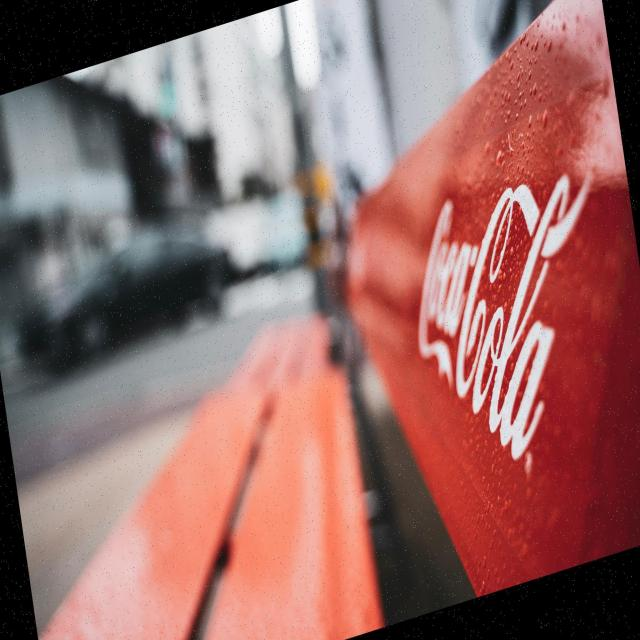coca-cola: (390, 149, 631, 501)
